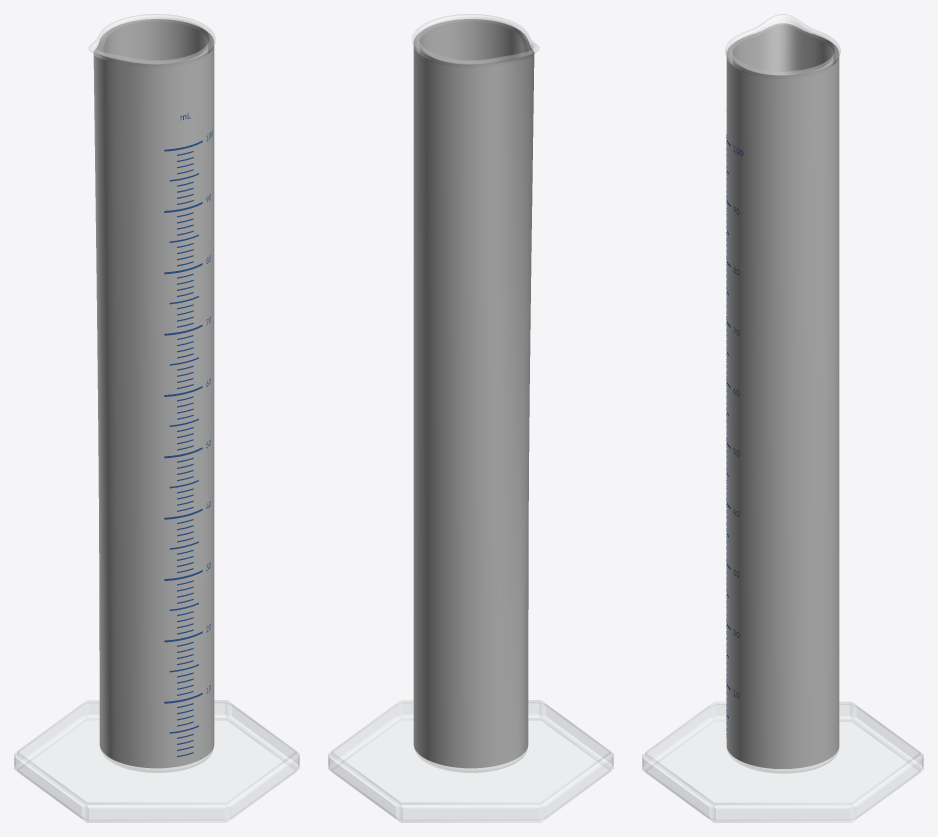
Rendered from graduated-cylinder.glb.
3 renders of one model, left to right at view 1: azimuth 30°, elevation 25°; view 2: azimuth 150°, elevation 25°; view 3: azimuth 270°, elevation 25°, orthographic.
Visible parts, largest first — view 1: Cylinder_glass, Cylinder_foot, Cylinder_graduations; view 2: Cylinder_glass, Cylinder_foot; view 3: Cylinder_glass, Cylinder_foot, Cylinder_graduations.
Boxes of the visible parts, bbox=[...] form: Cylinder_glass: bbox=[88, 14, 215, 772]; Cylinder_foot: bbox=[14, 700, 299, 822]; Cylinder_graduations: bbox=[164, 113, 212, 757]; Cylinder_glass: bbox=[412, 14, 539, 772]; Cylinder_foot: bbox=[328, 700, 613, 822]; Cylinder_glass: bbox=[725, 14, 840, 773]; Cylinder_foot: bbox=[642, 702, 923, 822]; Cylinder_graduations: bbox=[726, 110, 743, 737].
Size of the model in its own units: 0.0658 by 0.2133 by 0.0748.
